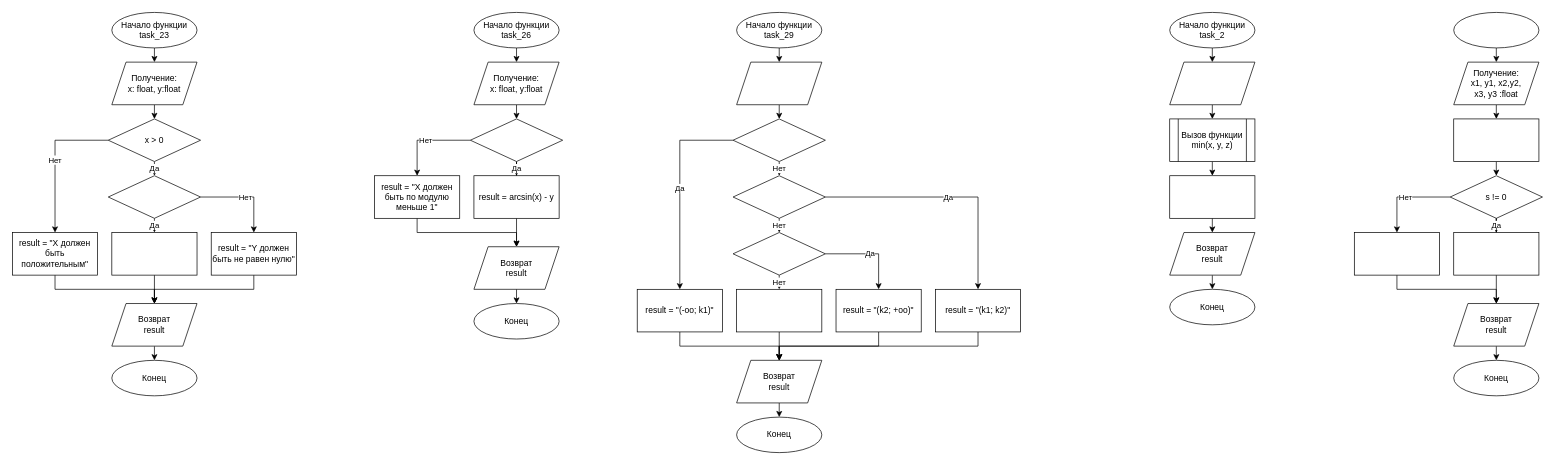
This 1555x465 diagram has some shape labels left out. The shapes that lost their labels are listed below. From the top down, each one's centre as x and y in pixels, then its label:
pixel 1496 30: Начало функции task_5
pixel 779 83: Получение: x: float, k1:float, k2: float
pixel 1212 83: Получение: x: float, y:float, z: float
pixel 516 140: |x| <= 1
pixel 778 140: x < k1
pixel 1496 140: s = 0.5 * |(x2 - x1)(y3 - y1) - (x3 - x1)(y2 - y1)|
pixel 154 196: y != 0
pixel 778 196: k1 < x < k2
pixel 1212 196: result = min(x, y, z)
pixel 154 253: result = ln(x) - x/y
pixel 778 253: x > k2
pixel 1397 253: result = "Такого треугольника не существует"
pixel 1496 253: result = s
pixel 779 310: result = "x = k1 or x = k2"
